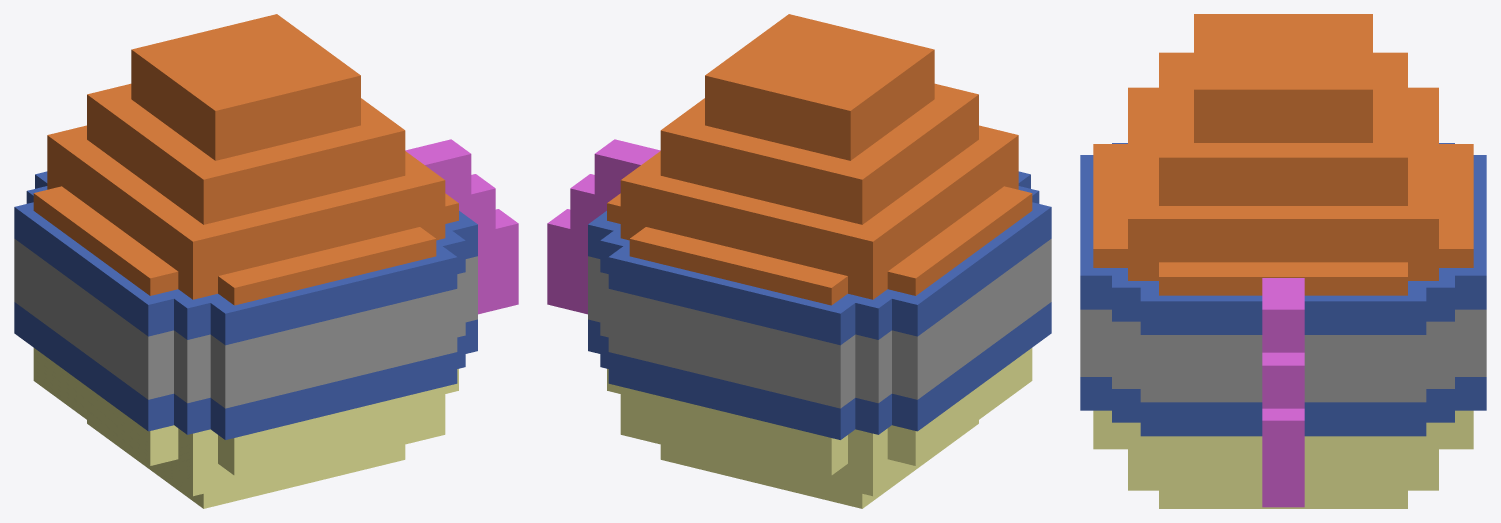
File: 13.Trulimero Trulicina.fbx
The picture shows the model from 3 angles, left to right: view 1: azimuth 30°, elevation 25°; view 2: azimuth 150°, elevation 25°; view 3: azimuth 270°, elevation 25°; orthographic projection. The views are drawn at different scales.
Visible parts, largest first — view 1: Trulimero_Trulicina; view 2: Trulimero_Trulicina; view 3: Trulimero_Trulicina.
Boxes of the visible parts, x1,y1,x2,y2 form: Trulimero_Trulicina: [14, 14, 518, 508]; Trulimero_Trulicina: [547, 14, 1051, 508]; Trulimero_Trulicina: [1080, 14, 1486, 508].
Size of the model in its own units: 3.99 by 3.39 by 3.08.
